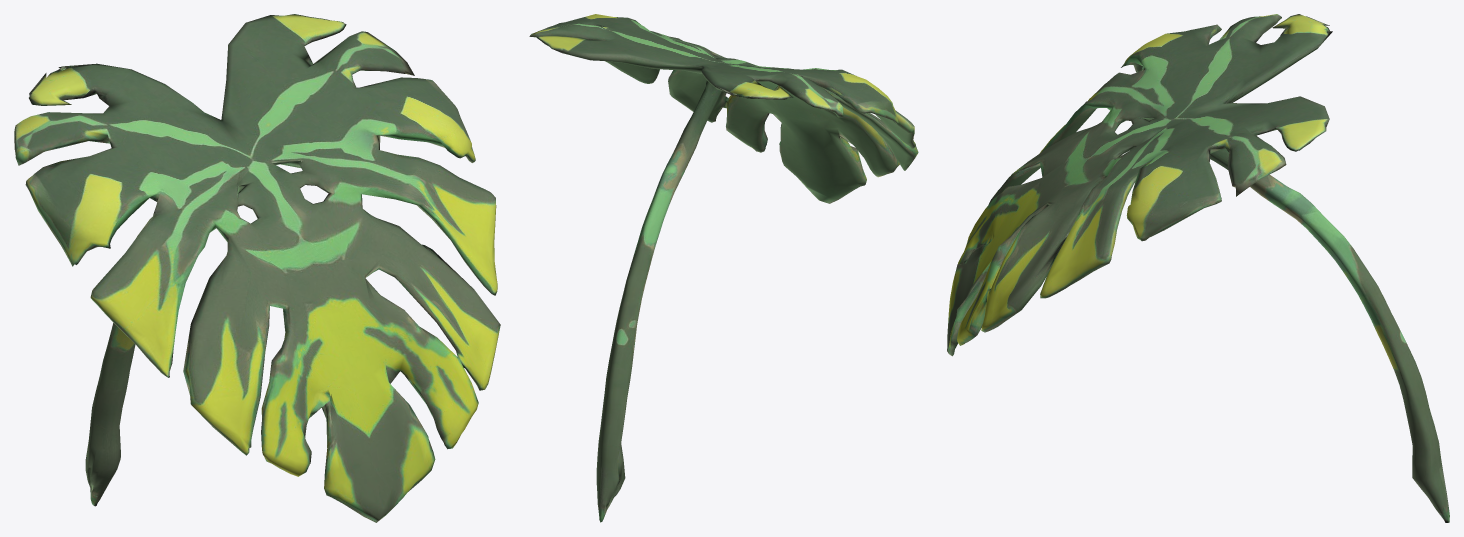
The model's file is mon_green_yellow_v2.glb.
The picture shows the model from 3 angles, left to right: view 1: azimuth 30°, elevation 25°; view 2: azimuth 150°, elevation 25°; view 3: azimuth 270°, elevation 25°; orthographic projection. The views are drawn at different scales.
Size of the model in its own units: 1.68 by 1.98 by 2.
Materials: 1 (1 with a texture image).
